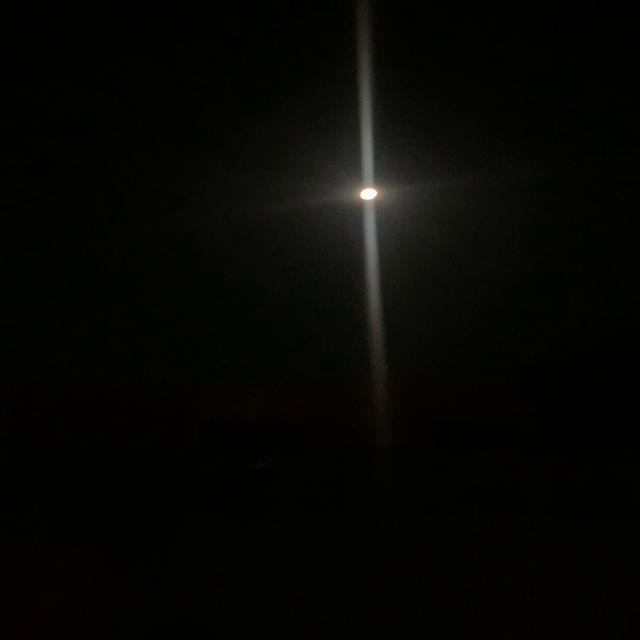moon: (340, 176, 402, 208)
